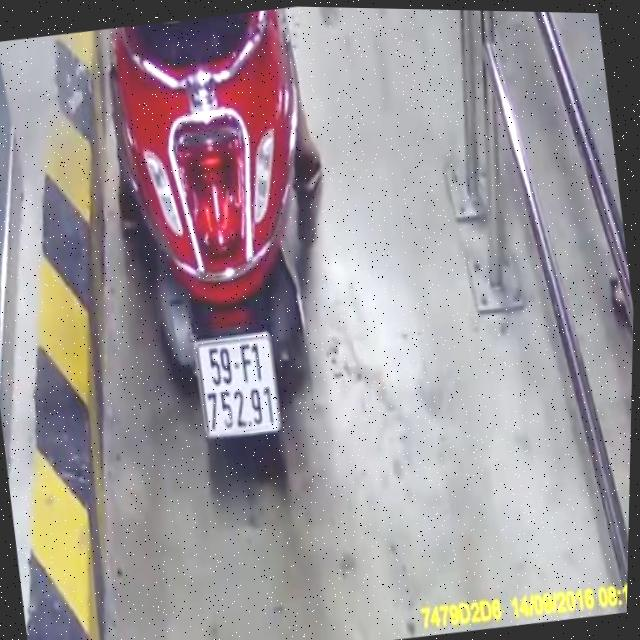motorcycle: (75, 2, 368, 522)
plate: (187, 323, 290, 447)
